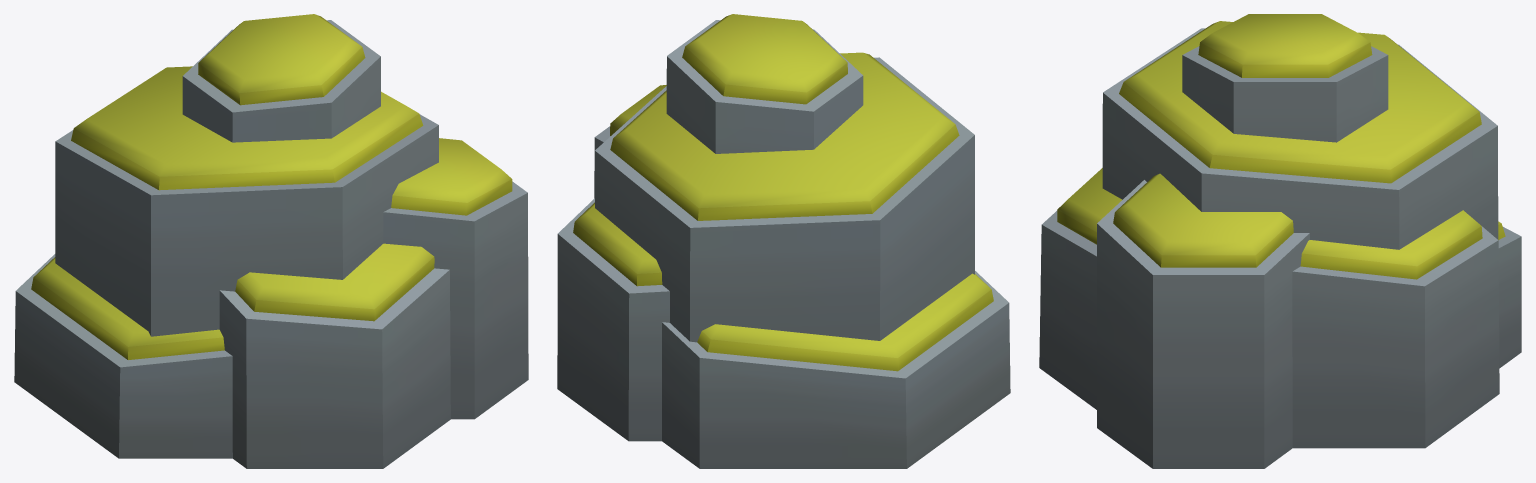
The model's file is kay-montanha-grama.gltf.
3 renders of one model, left to right at view 1: azimuth 30°, elevation 25°; view 2: azimuth 150°, elevation 25°; view 3: azimuth 270°, elevation 25°, orthographic. The views are drawn at different scales.
Visible parts, largest first — view 1: mountain_A_grass; view 2: mountain_A_grass; view 3: mountain_A_grass.
Boxes of the visible parts, x1=… form: mountain_A_grass: x1=14, y1=14, x2=528, y2=468; mountain_A_grass: x1=557, y1=14, x2=1010, y2=468; mountain_A_grass: x1=1039, y1=14, x2=1521, y2=468.
Bounding box in the file's own units: 9.01 × 7.51 × 9.38.
Materials: 1 (1 with a texture image).
